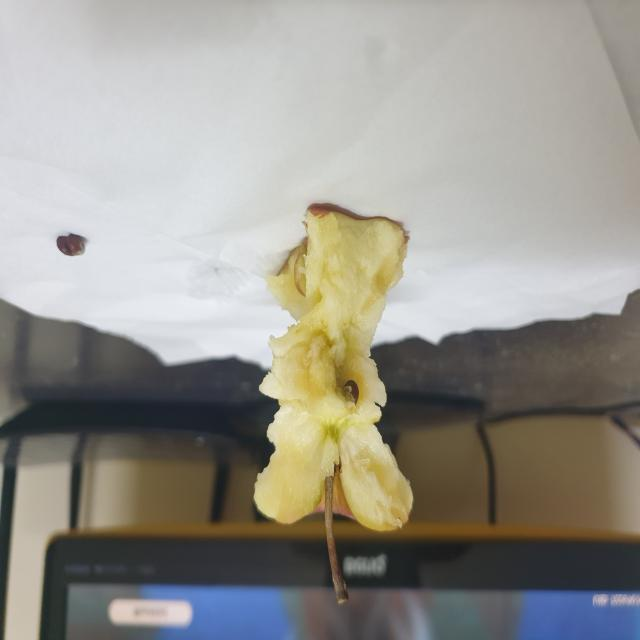apple: (246, 196, 421, 614)
